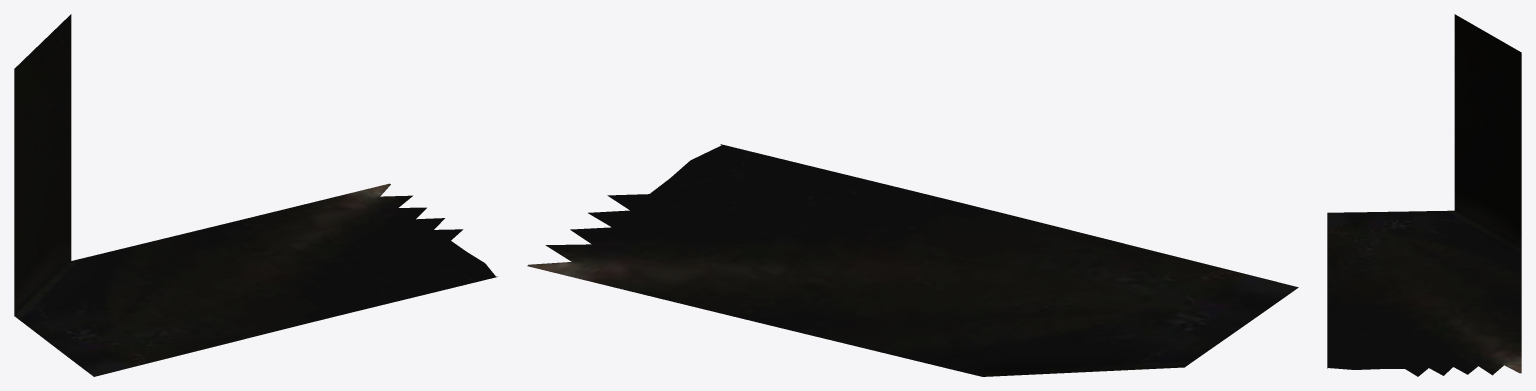
The picture shows the model from 3 angles, left to right: view 1: azimuth 30°, elevation 25°; view 2: azimuth 150°, elevation 25°; view 3: azimuth 270°, elevation 25°; orthographic projection. The views are drawn at different scales.
Bounding box in the file's own units: 4.79 × 2.68 × 2.37.
1 material, 1 textured.
